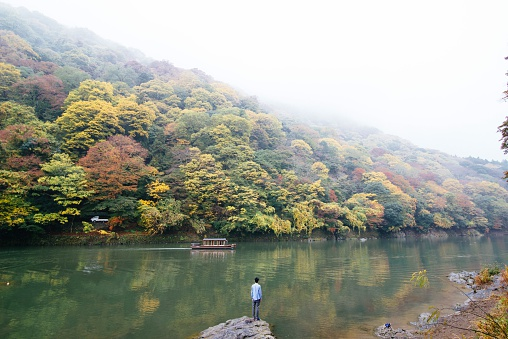em pe: (241, 275, 260, 317)
